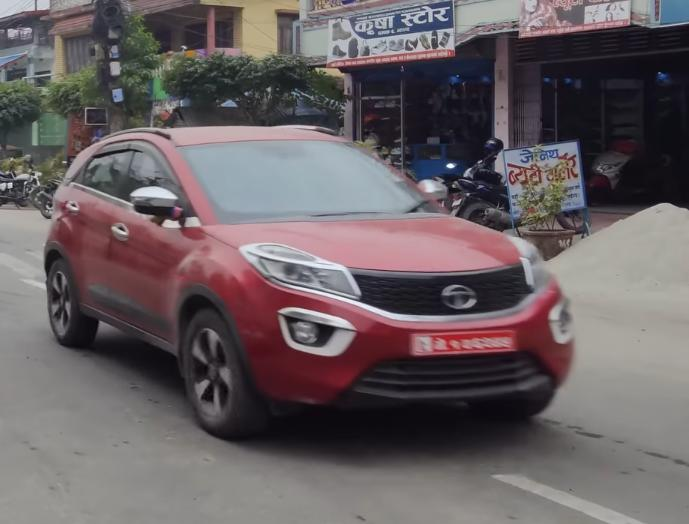car: (30, 120, 587, 443)
